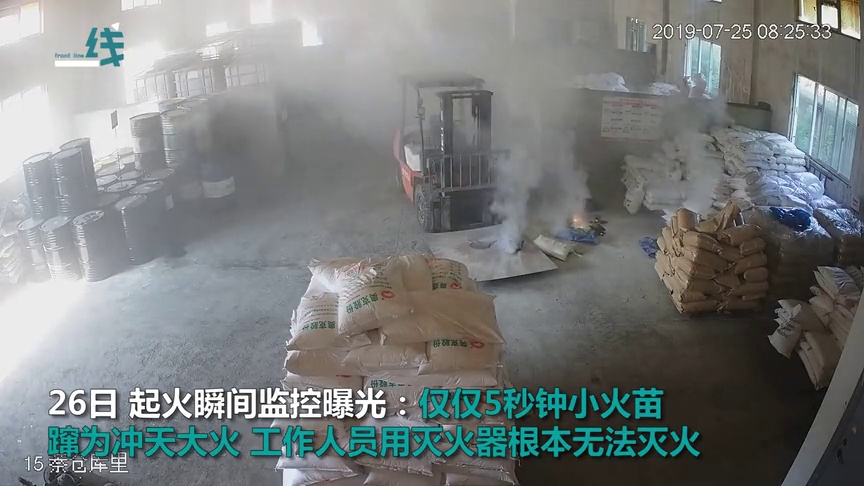smoke: (499, 131, 579, 227)
